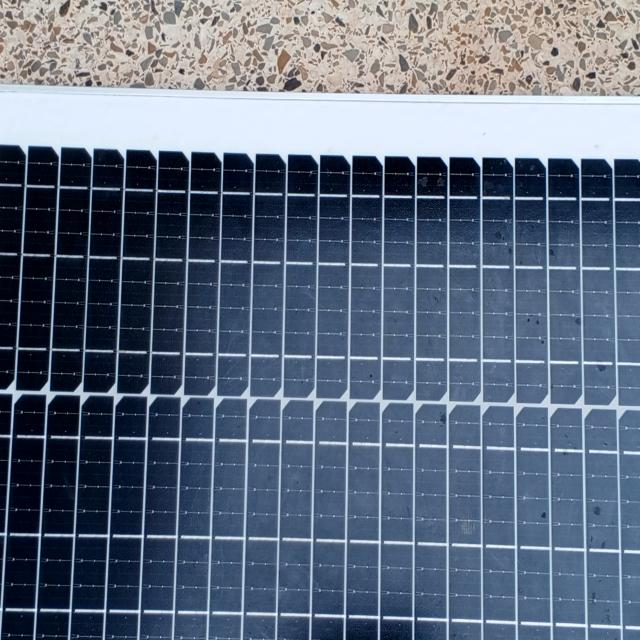Clean: (10, 107, 640, 640)
